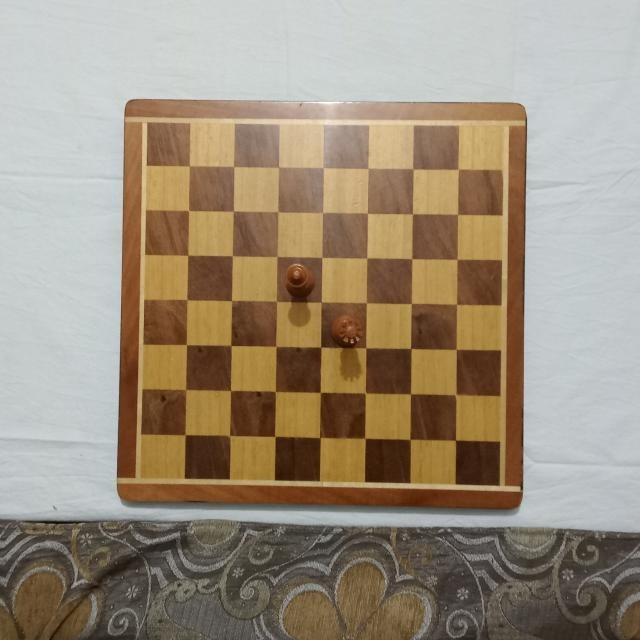white-king: (285, 263, 317, 297)
white-queen: (330, 314, 362, 348)
